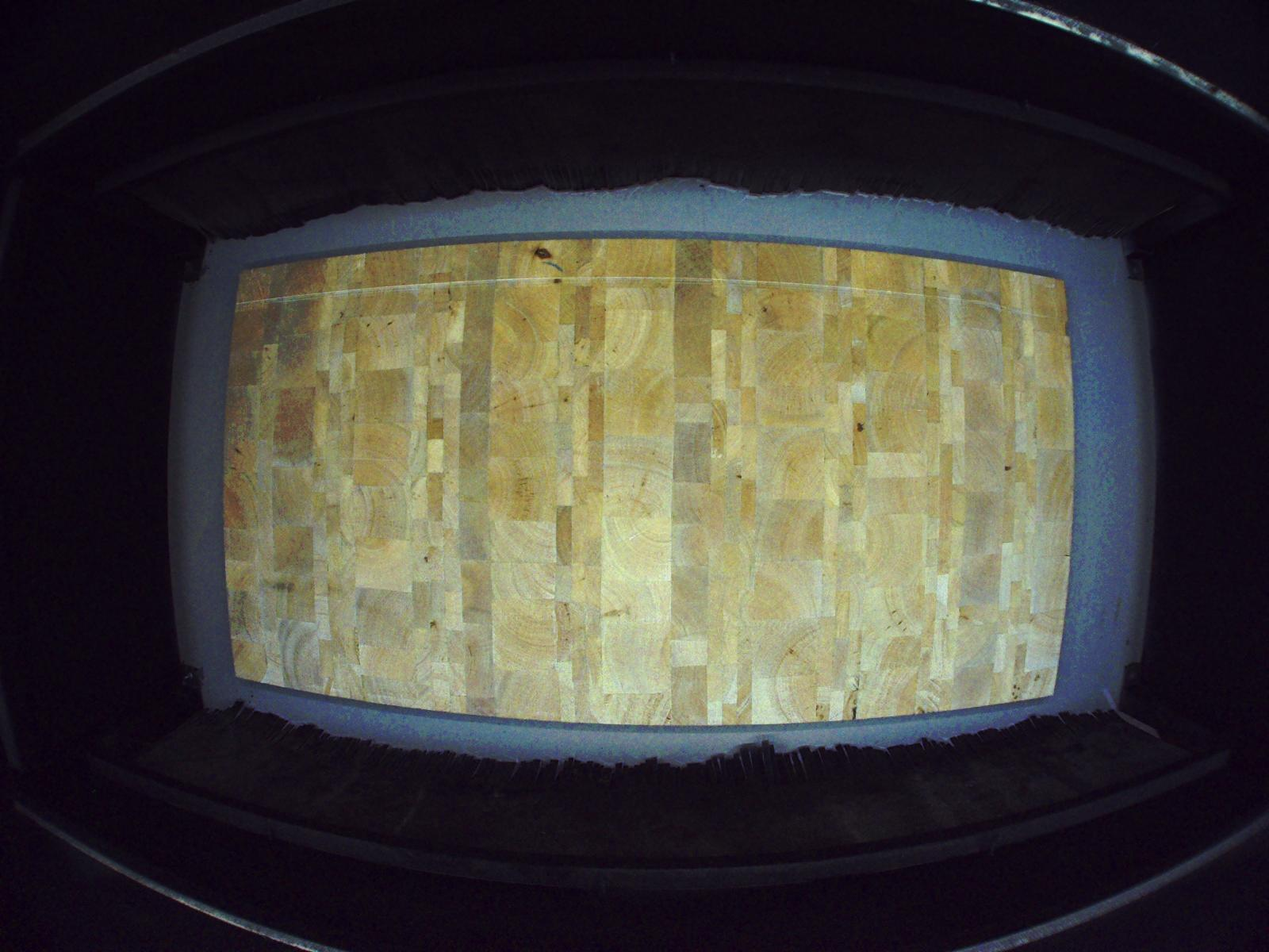sheck_ecuatoriano: (526, 240, 556, 268)
